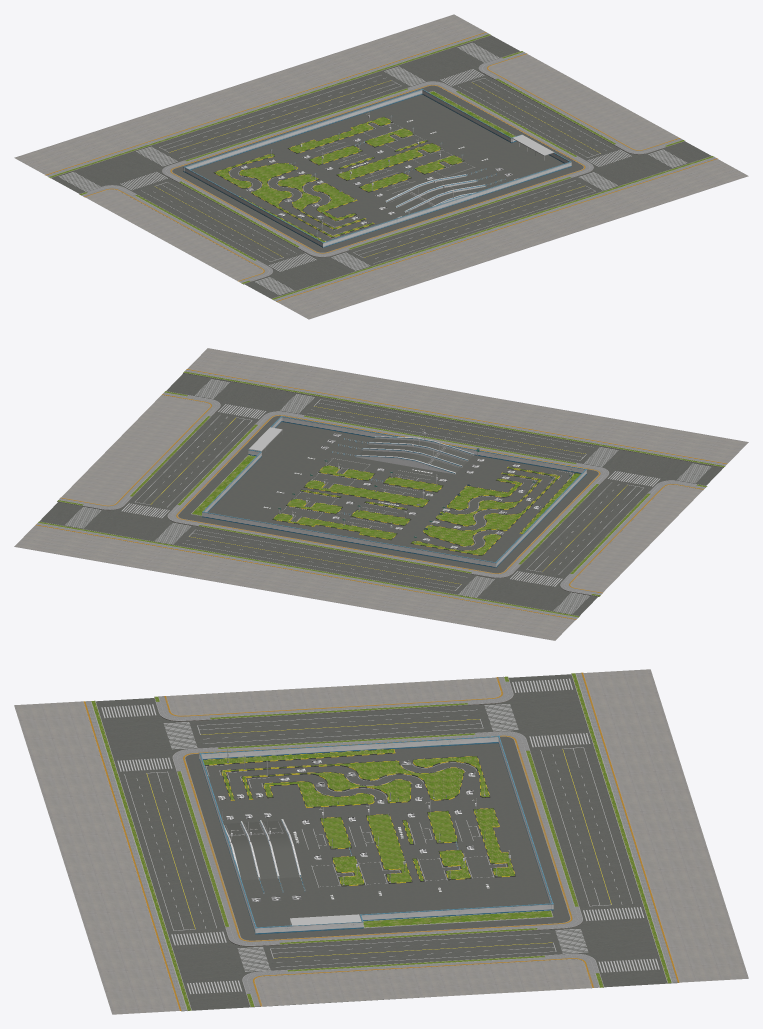
3 views of the same model, one above another, from view 1: azimuth 30°, elevation 25°; view 2: azimuth 150°, elevation 25°; view 3: azimuth 270°, elevation 25° (orthographic). The views are drawn at different scales.
Visible parts, largest first — view 1: CJG_TongLiao_YunShu_K2_DiMian01_002, CJG_TongLiao_YunShu_K2_LuMian01_001, CJG_TongLiao_YunShu_K2_DiMian01_001, CJG_TongLiao_YunShu_K2_LuMian02_001, CJG_TongLiao_YunShu_K2_BaiXian01_001, CJG_TongLiao_YunShu_K2_Cao01_001, CJG_TongLiao_YunShu_K2_Qiang01, CJG_TongLiao_YunShu_K2_Cao01_002, CJG_TongLiao_YunShu_K2_MLY02_001, CJG_TongLiao_YunShu_K2_PoQi02_001, CJG_TongLiao_YunShu_K2_PoQi01_001, CJG_TongLiao_YunShu_K2_HuangXian01_001 (+2 smaller); view 2: CJG_TongLiao_YunShu_K2_DiMian01_002, CJG_TongLiao_YunShu_K2_LuMian01_001, CJG_TongLiao_YunShu_K2_DiMian01_001, CJG_TongLiao_YunShu_K2_LuMian02_001, CJG_TongLiao_YunShu_K2_Cao01_001, CJG_TongLiao_YunShu_K2_BaiXian01_001, CJG_TongLiao_YunShu_K2_Cao01_002, CJG_TongLiao_YunShu_K2_Qiang01, CJG_TongLiao_YunShu_K2_MLY02_001, CJG_TongLiao_YunShu_K2_PoQi02_001, CJG_TongLiao_YunShu_K2_PoQi01_001, CJG_TongLiao_YunShu_K2_DiBiao01_001 (+2 smaller); view 3: CJG_TongLiao_YunShu_K2_DiMian01_002, CJG_TongLiao_YunShu_K2_LuMian01_001, CJG_TongLiao_YunShu_K2_DiMian01_001, CJG_TongLiao_YunShu_K2_LuMian02_001, CJG_TongLiao_YunShu_K2_Cao01_001, CJG_TongLiao_YunShu_K2_BaiXian01_001, CJG_TongLiao_YunShu_K2_Cao01_002, CJG_TongLiao_YunShu_K2_Qiang01, CJG_TongLiao_YunShu_K2_MLY02_001, CJG_TongLiao_YunShu_K2_PoQi02_001, CJG_TongLiao_YunShu_K2_DiBiao01_001, CJG_TongLiao_YunShu_K2_HuangXian01_001 (+3 smaller).
Boxes of the visible parts, x1,y1,x2,y2 form: CJG_TongLiao_YunShu_K2_DiMian01_002: (14, 14, 748, 319); CJG_TongLiao_YunShu_K2_LuMian01_001: (51, 35, 711, 301); CJG_TongLiao_YunShu_K2_DiMian01_001: (172, 85, 583, 252); CJG_TongLiao_YunShu_K2_LuMian02_001: (45, 32, 717, 301); CJG_TongLiao_YunShu_K2_BaiXian01_001: (59, 43, 686, 294); CJG_TongLiao_YunShu_K2_Cao01_001: (214, 117, 463, 242); CJG_TongLiao_YunShu_K2_Qiang01: (183, 89, 571, 247); CJG_TongLiao_YunShu_K2_Cao01_002: (49, 34, 713, 299); CJG_TongLiao_YunShu_K2_MLY02_001: (213, 117, 464, 241); CJG_TongLiao_YunShu_K2_PoQi02_001: (386, 176, 487, 214); CJG_TongLiao_YunShu_K2_PoQi01_001: (385, 174, 485, 212); CJG_TongLiao_YunShu_K2_HuangXian01_001: (154, 80, 600, 257); CJG_TongLiao_YunShu_K2_DiMian01_002: (14, 348, 748, 640); CJG_TongLiao_YunShu_K2_LuMian01_001: (39, 373, 723, 615); CJG_TongLiao_YunShu_K2_DiMian01_001: (178, 416, 598, 573); CJG_TongLiao_YunShu_K2_LuMian02_001: (35, 369, 727, 619); CJG_TongLiao_YunShu_K2_Cao01_001: (273, 465, 580, 555); CJG_TongLiao_YunShu_K2_BaiXian01_001: (65, 379, 710, 613); CJG_TongLiao_YunShu_K2_Cao01_002: (38, 371, 724, 617); CJG_TongLiao_YunShu_K2_Qiang01: (202, 416, 586, 567); CJG_TongLiao_YunShu_K2_MLY02_001: (272, 465, 580, 555); CJG_TongLiao_YunShu_K2_PoQi02_001: (359, 438, 472, 473); CJG_TongLiao_YunShu_K2_PoQi01_001: (356, 436, 474, 474); CJG_TongLiao_YunShu_K2_DiBiao01_001: (320, 433, 540, 548); CJG_TongLiao_YunShu_K2_DiMian01_002: (14, 669, 748, 1014); CJG_TongLiao_YunShu_K2_LuMian01_001: (96, 674, 679, 1011); CJG_TongLiao_YunShu_K2_DiMian01_001: (185, 736, 570, 940); CJG_TongLiao_YunShu_K2_LuMian02_001: (83, 672, 679, 1010); CJG_TongLiao_YunShu_K2_Cao01_001: (203, 749, 514, 885); CJG_TongLiao_YunShu_K2_BaiXian01_001: (101, 678, 659, 994); CJG_TongLiao_YunShu_K2_Cao01_002: (91, 673, 671, 1010); CJG_TongLiao_YunShu_K2_Qiang01: (199, 735, 553, 934); CJG_TongLiao_YunShu_K2_MLY02_001: (203, 749, 515, 886); CJG_TongLiao_YunShu_K2_PoQi02_001: (224, 820, 299, 880); CJG_TongLiao_YunShu_K2_DiBiao01_001: (218, 760, 475, 901); CJG_TongLiao_YunShu_K2_HuangXian01_001: (146, 719, 611, 958).
Bounding box in the file's own units: 25903 × 799 × 23289.
